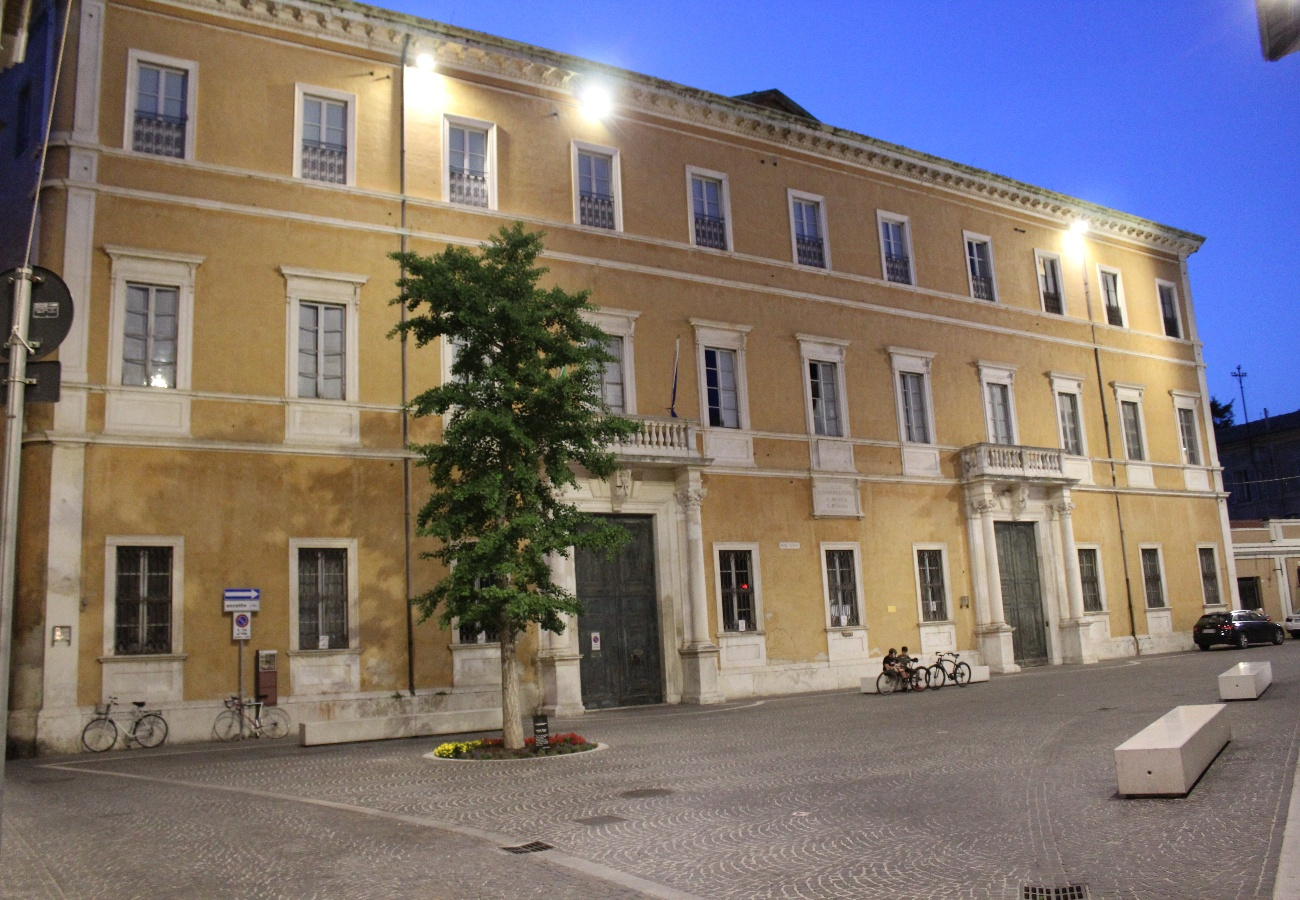Palazzo Olivieri: (39, 1, 1192, 754)
